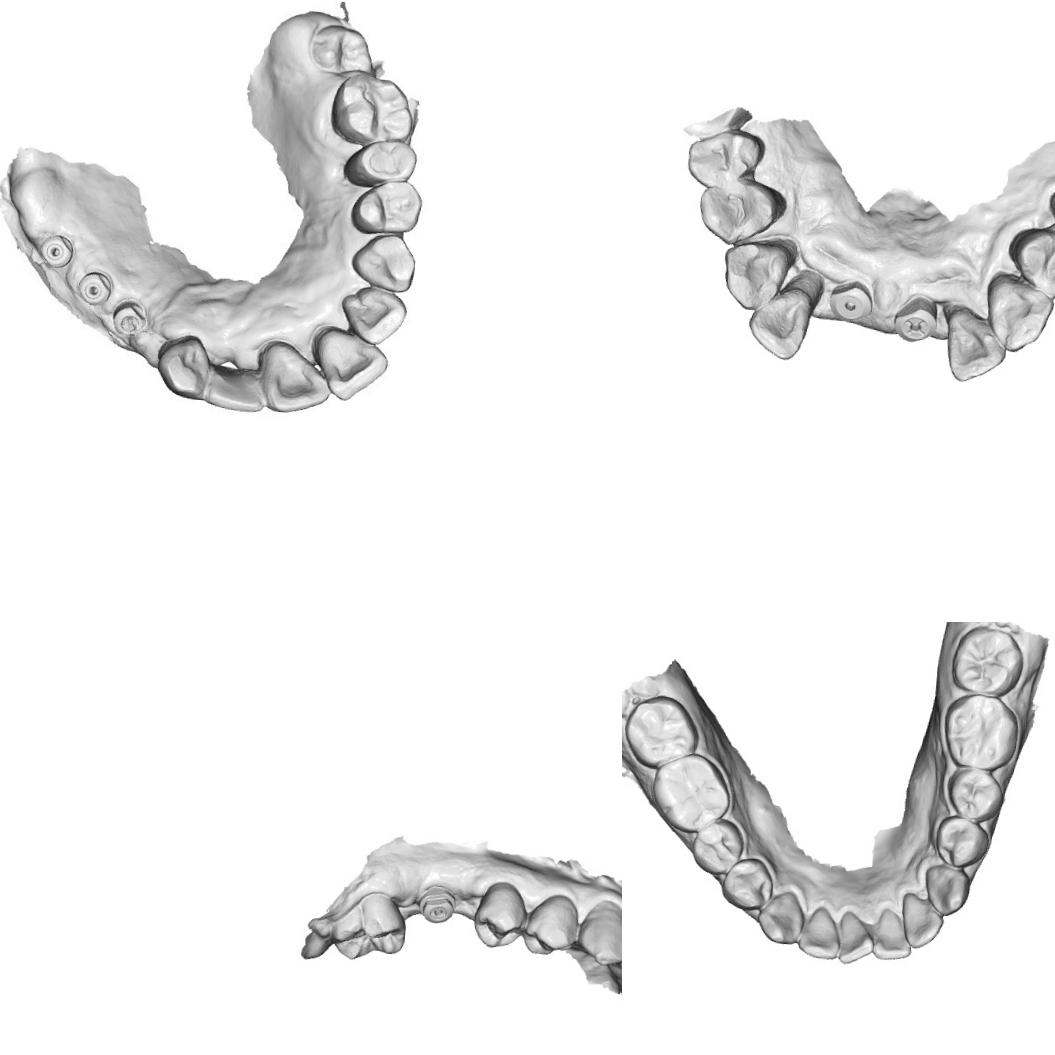canine: (979, 271, 1055, 355), (714, 238, 794, 313), (158, 330, 214, 400), (574, 895, 622, 968), (356, 236, 419, 290), (754, 886, 806, 948), (920, 861, 972, 918)
implant: (828, 280, 874, 326), (28, 228, 78, 269), (109, 295, 148, 337), (74, 267, 114, 304)
implant_minus: (412, 882, 460, 926)
implant_plus: (890, 294, 939, 347)
incisor: (313, 325, 387, 402), (938, 306, 1008, 386), (744, 285, 813, 362), (256, 340, 328, 413), (338, 288, 408, 342), (204, 360, 268, 416), (897, 890, 946, 950), (796, 902, 843, 961), (870, 904, 914, 962), (834, 908, 877, 966)
molar: (646, 748, 734, 836), (938, 690, 1022, 773), (324, 886, 409, 966), (622, 690, 702, 772), (336, 69, 416, 148), (948, 623, 1026, 697)
premolar: (693, 174, 788, 250), (681, 125, 767, 194), (340, 132, 420, 192), (348, 176, 423, 240), (470, 876, 528, 951), (520, 890, 581, 958), (1005, 223, 1055, 302), (944, 765, 1006, 824), (688, 814, 745, 876), (718, 855, 776, 912), (932, 812, 990, 868)
